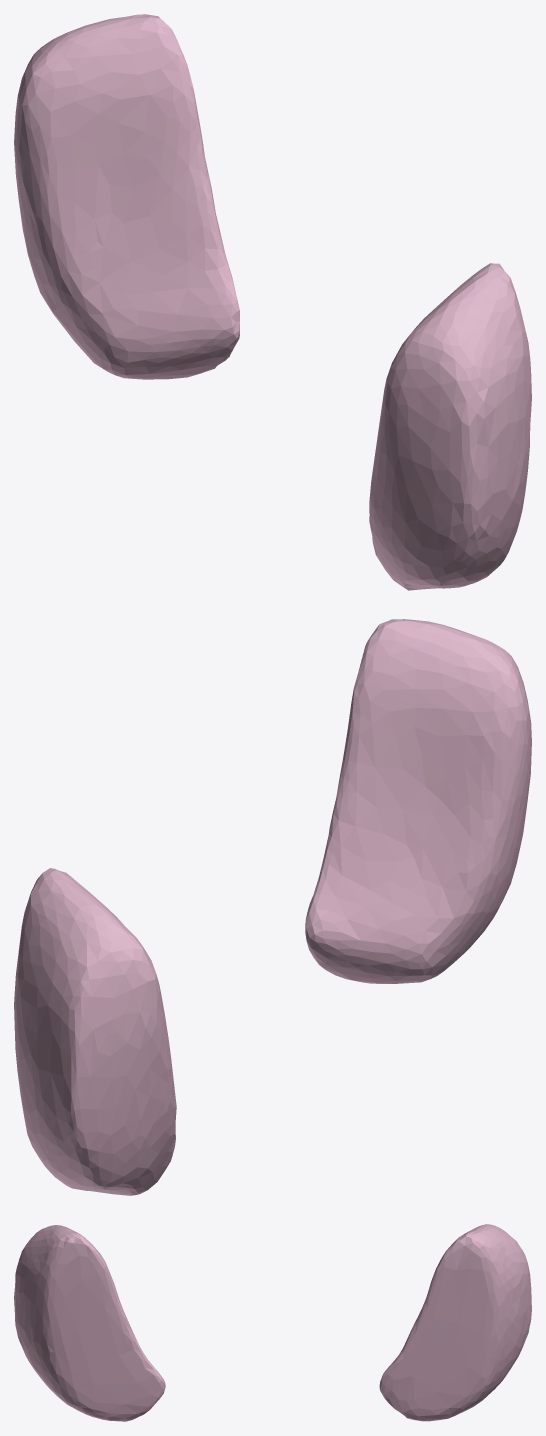
3 views of the same model, one above another, from view 1: azimuth 30°, elevation 25°; view 2: azimuth 150°, elevation 25°; view 3: azimuth 270°, elevation 25° (orthographic). The views are drawn at different scales.
Visible parts, largest first — view 1: 429.obj; view 2: 429.obj; view 3: 429.obj.
Boxes of the visible parts, <box> form: 429.obj: <box>14,14,531,590</box>; 429.obj: <box>14,619,531,1195</box>; 429.obj: <box>14,1224,531,1421</box>.
Bounding box in the file's own units: 797 × 1839 × 4535.
